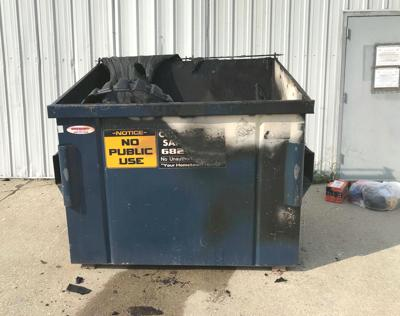Dumpster: (43, 54, 321, 275)
